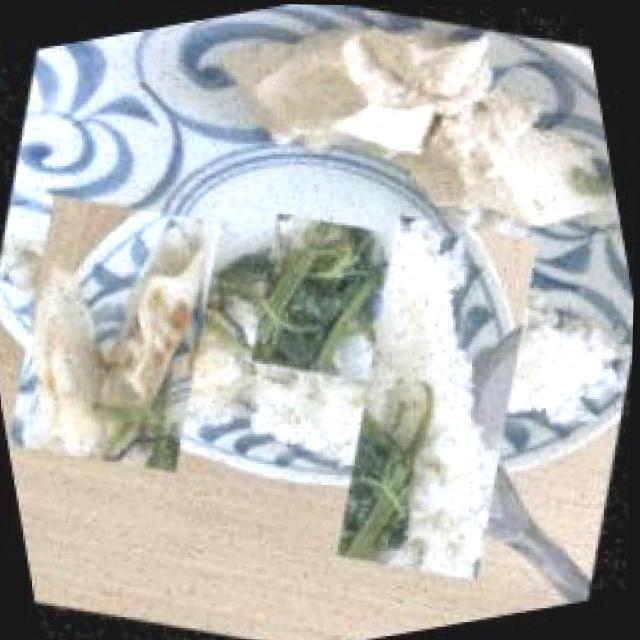fried_dumplings: (0, 172, 279, 490)
rice: (252, 210, 626, 582)
water_spinach: (223, 193, 432, 400)
